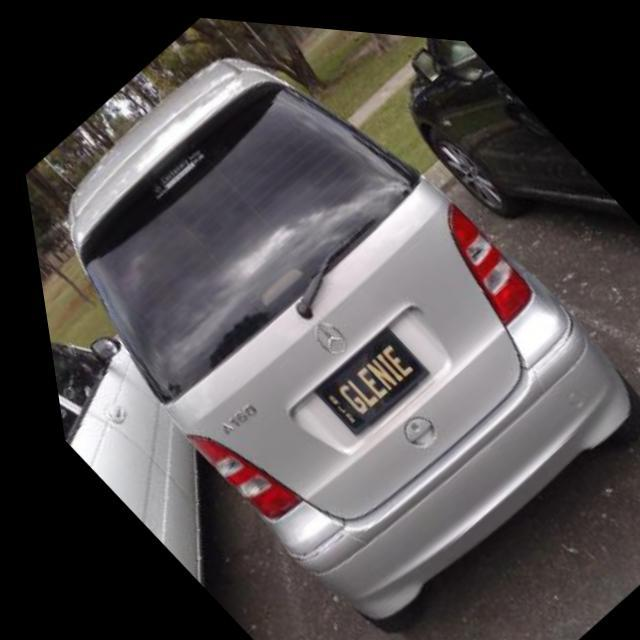license_plate: (294, 313, 430, 439)
